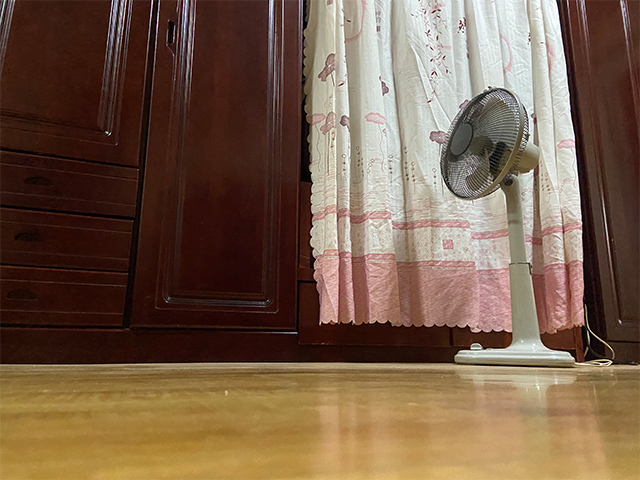cabinet: (1, 1, 305, 360)
curtain: (305, 1, 587, 337)
wire: (576, 303, 616, 367)
